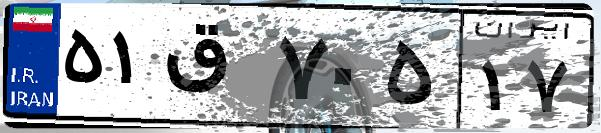0: (330, 28, 385, 110)
1: (475, 38, 525, 113), (110, 28, 158, 98)
5: (385, 28, 445, 110), (57, 26, 110, 100)
7: (270, 28, 330, 110), (525, 38, 570, 115)
ق: (158, 20, 270, 120)
